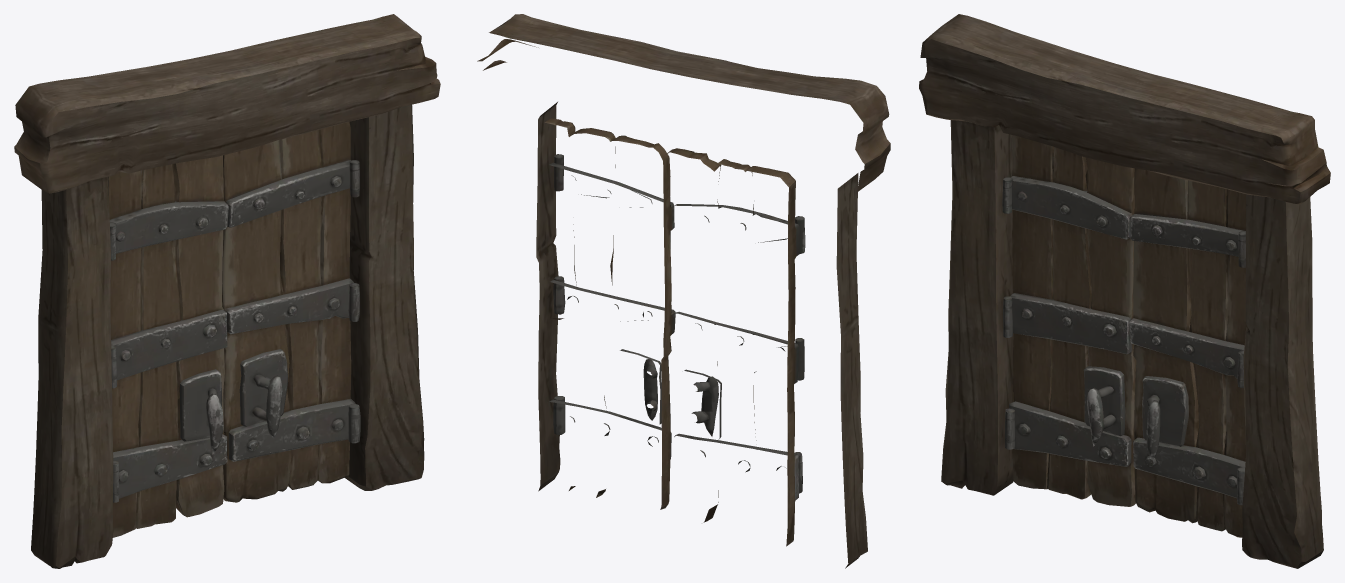
The model's file is door-compressed.glb.
3 renders of one model, left to right at view 1: azimuth 30°, elevation 25°; view 2: azimuth 150°, elevation 25°; view 3: azimuth 330°, elevation 25°, orthographic. The views are drawn at different scales.
Visible parts, largest first — view 1: door; view 2: door; view 3: door.
Part boxes in pixels (<box>): door: <box>14,14,440,568</box>; door: <box>477,14,890,568</box>; door: <box>919,14,1330,568</box>.
Size of the model in its own units: 1.79 by 2.01 by 0.2434.
1 material, 1 textured.
